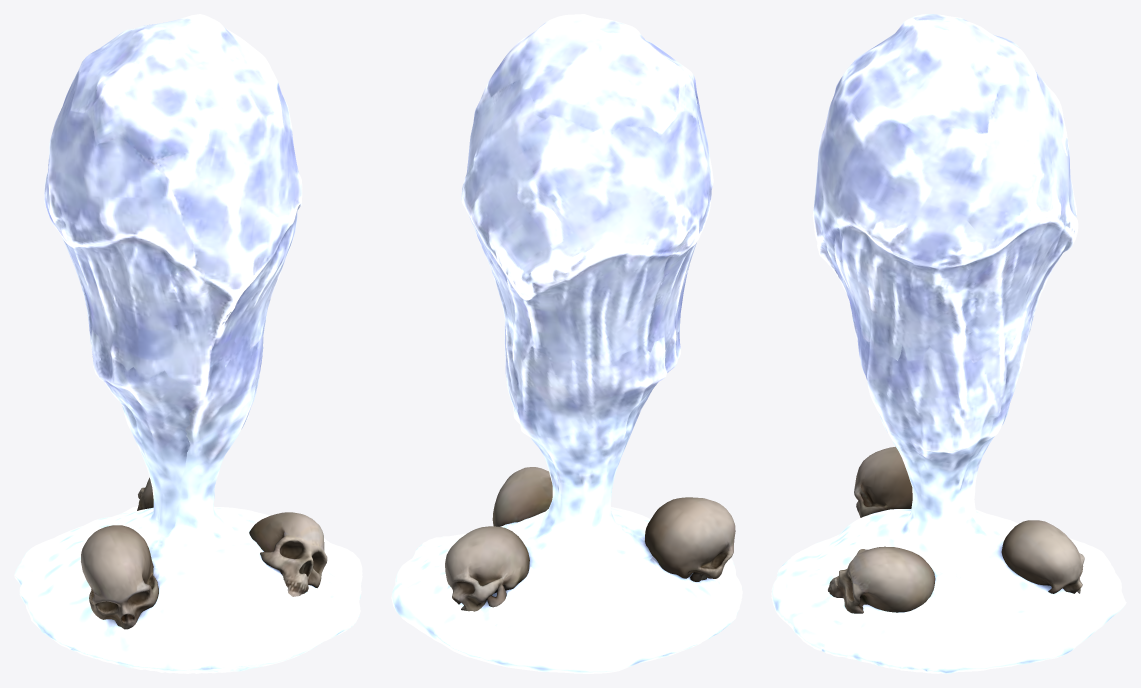
Rendered from MZ4250 - Auril_3rd_alt.glb.
3 views of the same model, side by side, from view 1: azimuth 30°, elevation 25°; view 2: azimuth 150°, elevation 25°; view 3: azimuth 270°, elevation 25° (orthographic).
Parts seen in each view (by area): view 1: ORGANIC BASE SPHERE.001; view 2: ORGANIC BASE SPHERE.001; view 3: ORGANIC BASE SPHERE.001.
Boxes of the visible parts, box(x1,y1,x2,y2) form: ORGANIC BASE SPHERE.001: box(14, 14, 362, 673); ORGANIC BASE SPHERE.001: box(391, 14, 742, 673); ORGANIC BASE SPHERE.001: box(771, 14, 1126, 673).
Bounding box in the file's own units: 42.03 × 76.89 × 42.79.
1 material, 1 textured.
